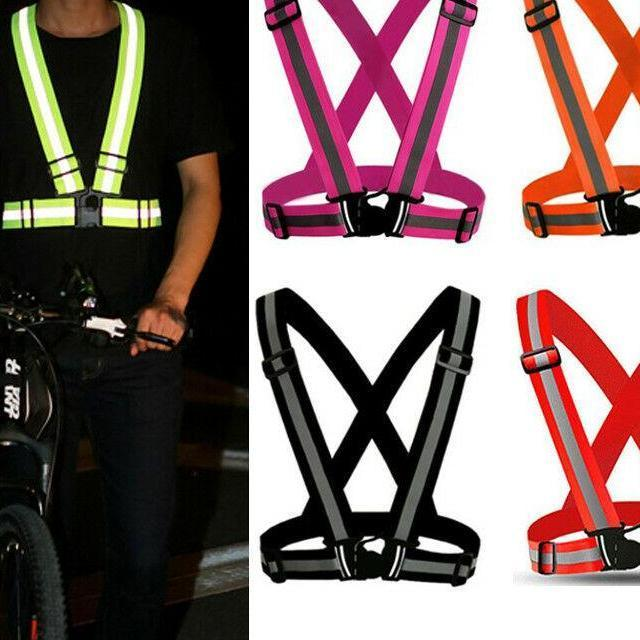Vest: (0, 1, 179, 242)
